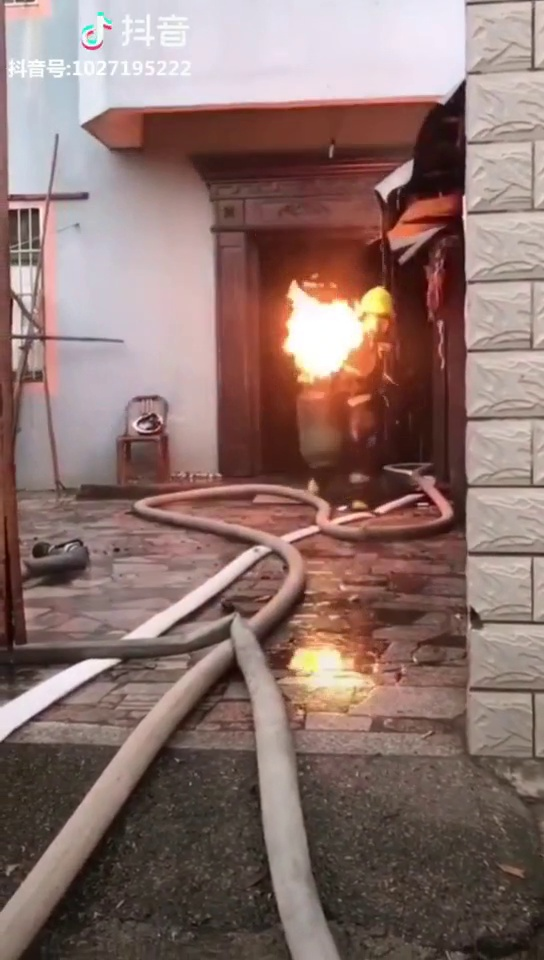fire: (266, 284, 356, 384)
